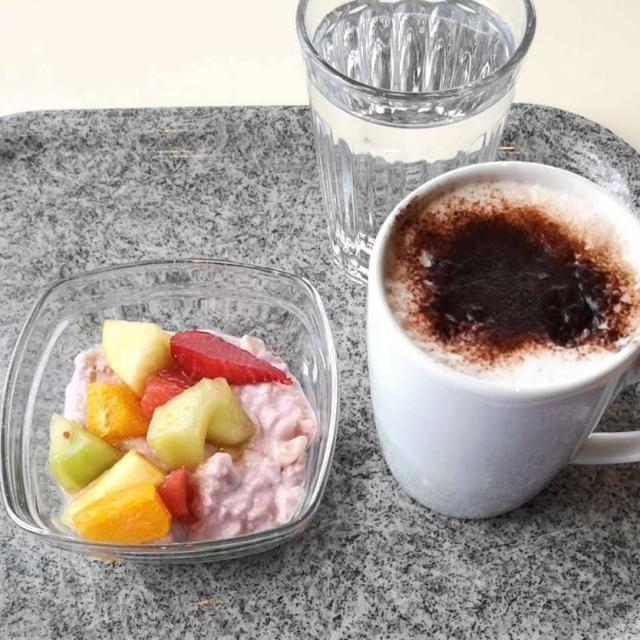birchermuesli: (49, 320, 314, 552)
cappuccino: (386, 187, 618, 368)
fruit-salad: (63, 322, 281, 546)
water: (310, 0, 514, 264)
